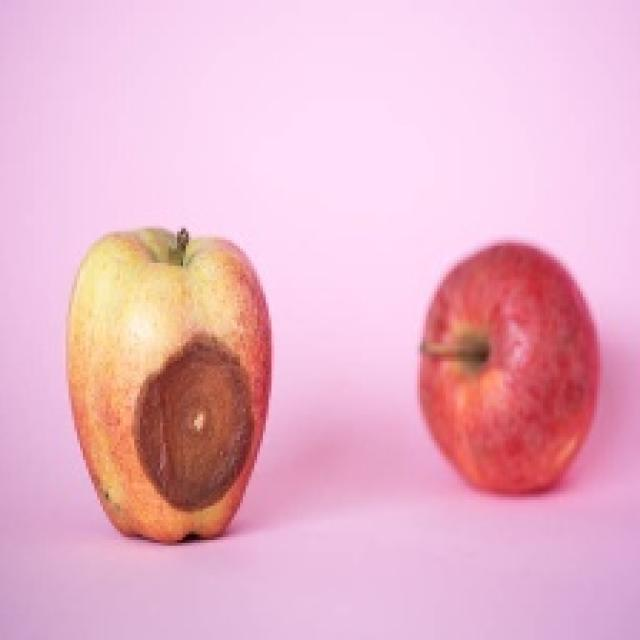rotten_apple: (73, 236, 272, 537)
